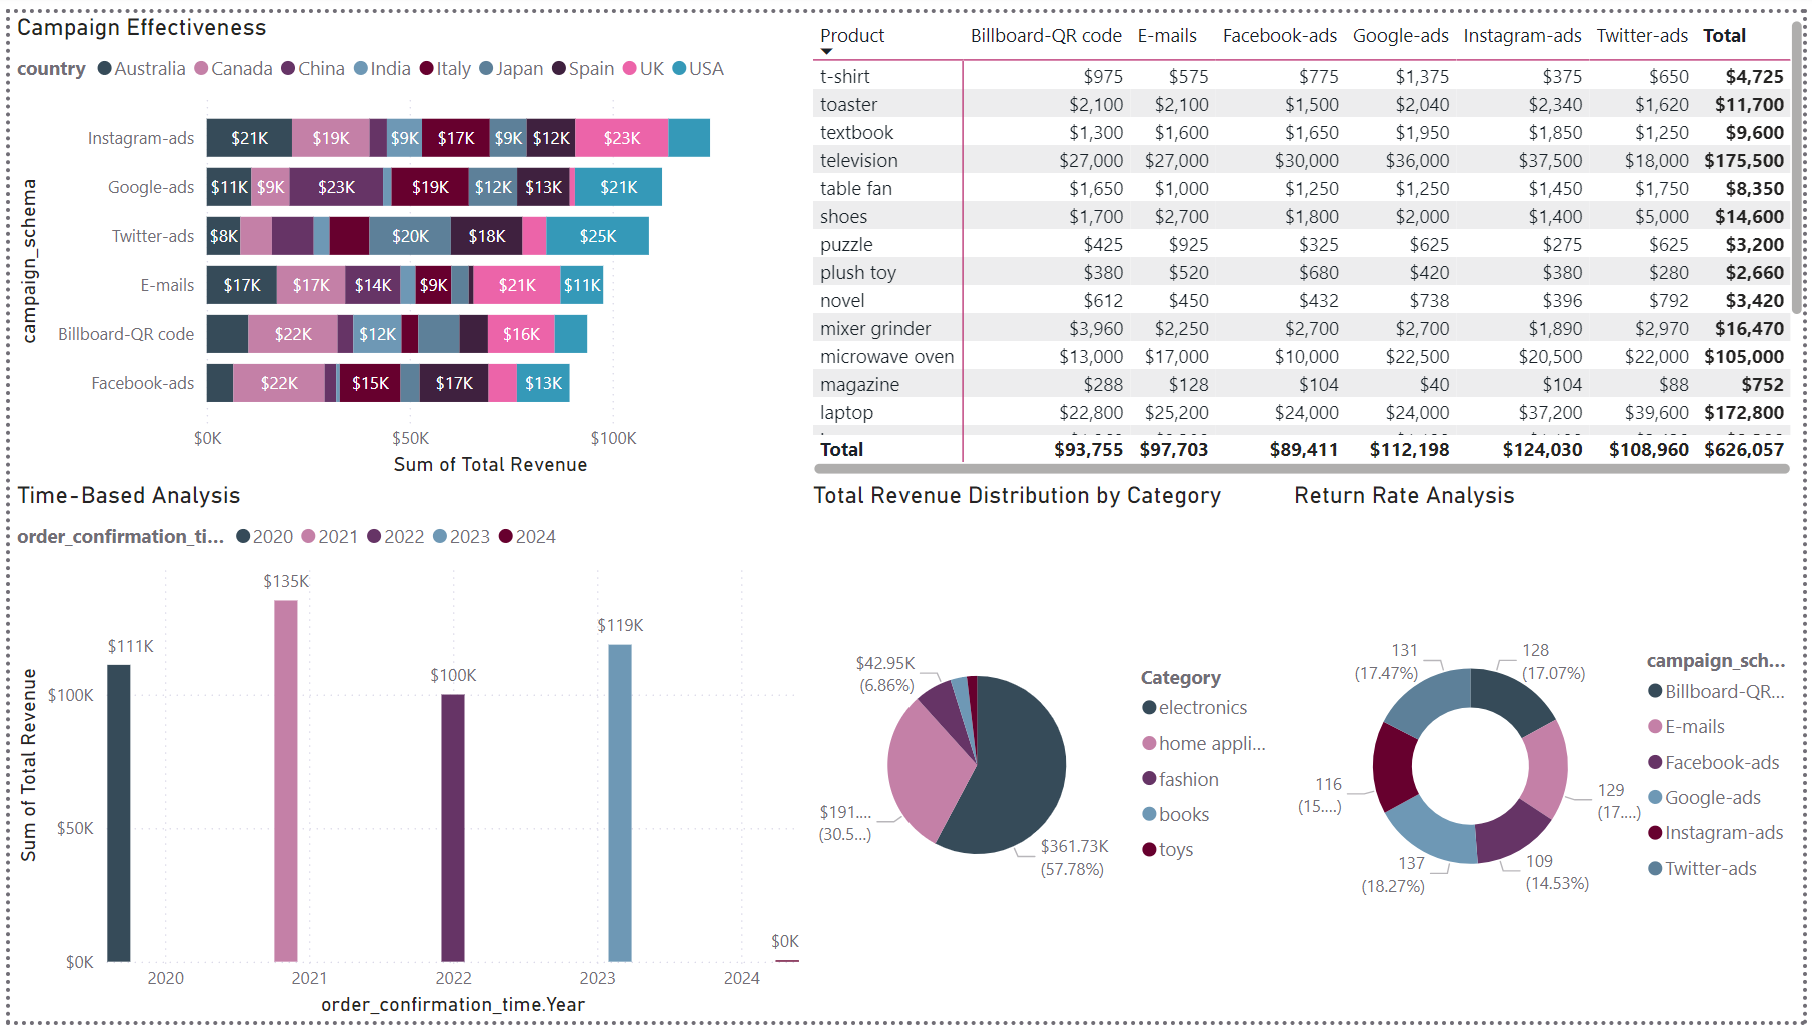

What the dashboard file says about the page in this screenshot:
{"tool":"powerbi","page":{"name":"Sales Revenue","canvas":[1280,720],"ordinal":1},"visuals":[{"type":"clusteredColumnChart","title":"Time-Based Analysis","fields":{"Y":["Sum(Online_retail_sales.Total Revenue)"],"Category":["Online_retail_sales.order_confirmation_time.Year"],"Series":["Online_retail_sales.order_confirmation_time.Year"]},"box":[0,335,568.3,386.7],"z":0},{"type":"barChart","title":"Campaign Effectiveness","fields":{"Category":["Online_retail_sales.campaign_schema"],"Y":["Sum(Online_retail_sales.Total Revenue)"],"Series":["Online_retail_sales.country"]},"box":[0,0,568.3,335],"z":1},{"type":"donutChart","title":"Return Rate Analysis","fields":{"Series":["Online_retail_sales.campaign_schema"],"Y":["CountNonNull(Online_retail_sales.order_return)"]},"box":[798.6,334.3,484.3,388.6],"z":2},{"type":"pivotTable","fields":{"Rows":["Online_retail_sales.Product"],"Columns":["Online_retail_sales.campaign_schema"],"Values":["Sum(Online_retail_sales.Total Revenue)"]},"box":[568.3,0,716.7,335],"z":3},{"type":"pieChart","title":"Total Revenue Distribution by Category","fields":{"Category":["Online_retail_sales.Category"],"Y":["Sum(Online_retail_sales.Total Revenue)"]},"box":[568.3,335,343.3,386.7],"z":4}]}

Visuals, with their boxes in screenshot pixels (x1, y1, x2, y2), scaled from the page's 1280x720 canvas onto the 1812x1032 screenshot:
"Time-Based Analysis" clusteredColumnChart: 0 480 804 1031
"Campaign Effectiveness" barChart: 0 0 804 480
"Return Rate Analysis" donutChart: 1131 479 1811 1031
pivotTable - Online_retail_sales.Product x Online_retail_sales.campaign_schema: 804 0 1811 480
"Total Revenue Distribution by Category" pieChart: 804 480 1290 1031
